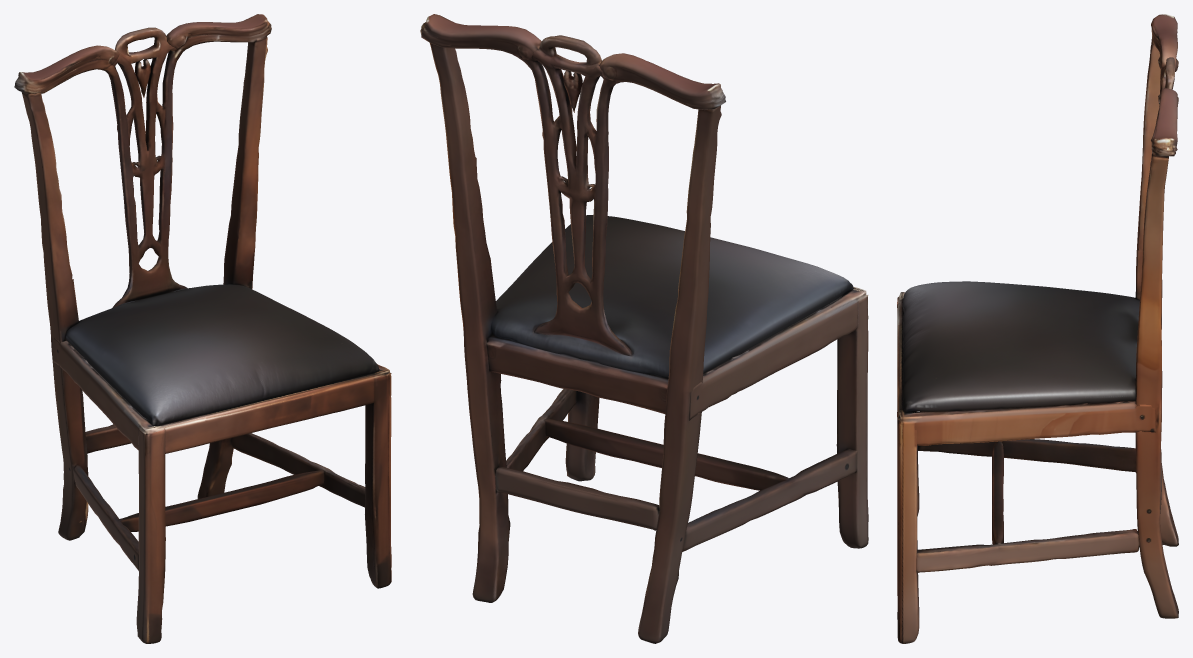
3 renders of one model, left to right at view 1: azimuth 30°, elevation 25°; view 2: azimuth 150°, elevation 25°; view 3: azimuth 270°, elevation 25°, orthographic. The views are drawn at different scales.
Visible parts, largest first — view 1: root.0, root.4, root.1, root.2, root.3, root.6, root.5, root.7, root.9, root.11, root.12, root.8 (+1 smaller); view 2: root.0, root.3, root.4, root.2, root.1, root.6, root.7, root.8, root.10, root.11, root.12, root.5 (+1 smaller); view 3: root.0, root.3, root.1, root.9, root.5, root.8, root.2, root.12, root.7, root.11, root.4.
Part boxes in pixels (<box>): root.0: <box>65,284,379,425</box>; root.4: <box>102,27,187,307</box>; root.1: <box>52,338,391,455</box>; root.2: <box>21,91,88,540</box>; root.3: <box>197,36,267,498</box>; root.6: <box>136,428,165,643</box>; root.5: <box>365,372,391,588</box>; root.7: <box>118,469,324,531</box>; root.9: <box>231,433,365,507</box>; root.11: <box>14,45,119,93</box>; root.12: <box>166,14,271,49</box>; root.8: <box>73,464,138,570</box>; root.0: <box>491,215,854,378</box>; root.3: <box>430,43,510,602</box>; root.4: <box>518,35,631,355</box>; root.2: <box>638,105,721,643</box>; root.1: <box>486,287,868,420</box>; root.6: <box>836,295,868,548</box>; root.7: <box>543,418,788,490</box>; root.8: <box>682,448,857,551</box>; root.10: <box>495,466,659,530</box>; root.11: <box>599,53,725,110</box>; root.12: <box>420,14,541,59</box>; root.5: <box>565,391,599,481</box>; root.0: <box>902,281,1139,412</box>; root.3: <box>1135,153,1178,618</box>; root.1: <box>897,292,1155,445</box>; root.9: <box>916,529,1139,572</box>; root.5: <box>897,412,919,643</box>; root.8: <box>918,439,1135,472</box>; root.2: <box>1135,37,1178,546</box>; root.12: <box>1151,88,1178,156</box>; root.7: <box>992,441,1003,544</box>; root.11: <box>1151,14,1178,71</box>; root.4: <box>1159,57,1175,106</box>.
Size of the model in its own units: 0.5368 by 0.99 by 0.4881.
13 materials, 13 textured.
